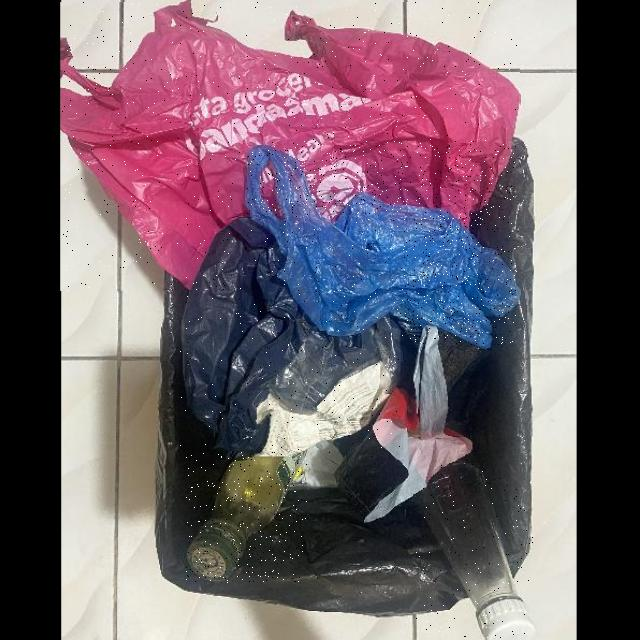glass: (413, 464, 534, 639), (187, 452, 307, 583)
plastic: (61, 2, 520, 291), (179, 215, 402, 460), (246, 144, 516, 345)
